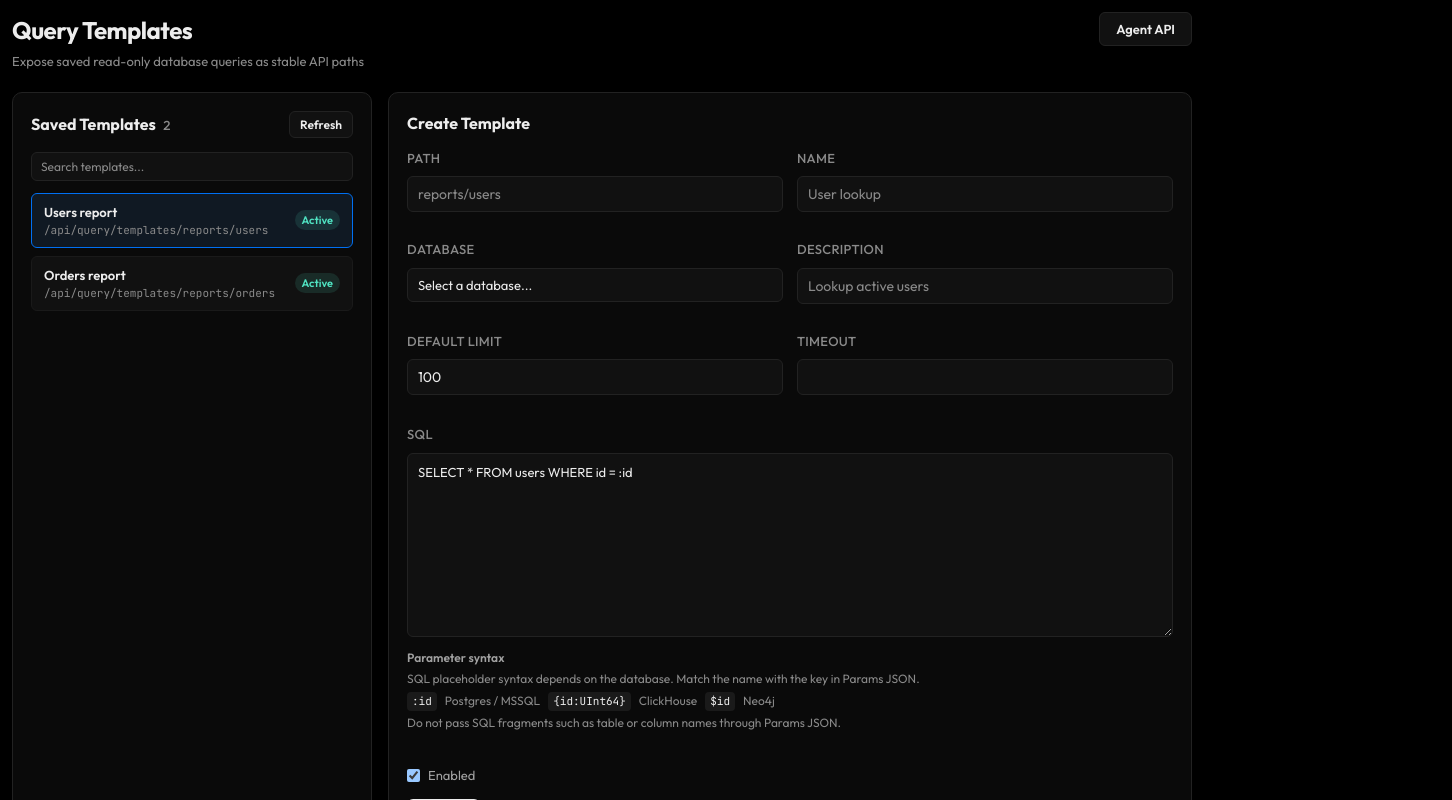
Test: QueryTemplates › counts saved templates in the list header, including search matches
Expected: the heading "Saved Templates 2" is shown, [31,112,171,136]
Type "orders" into the search field labelled "Search templates..." at (192, 166), box [31,152,353,180]
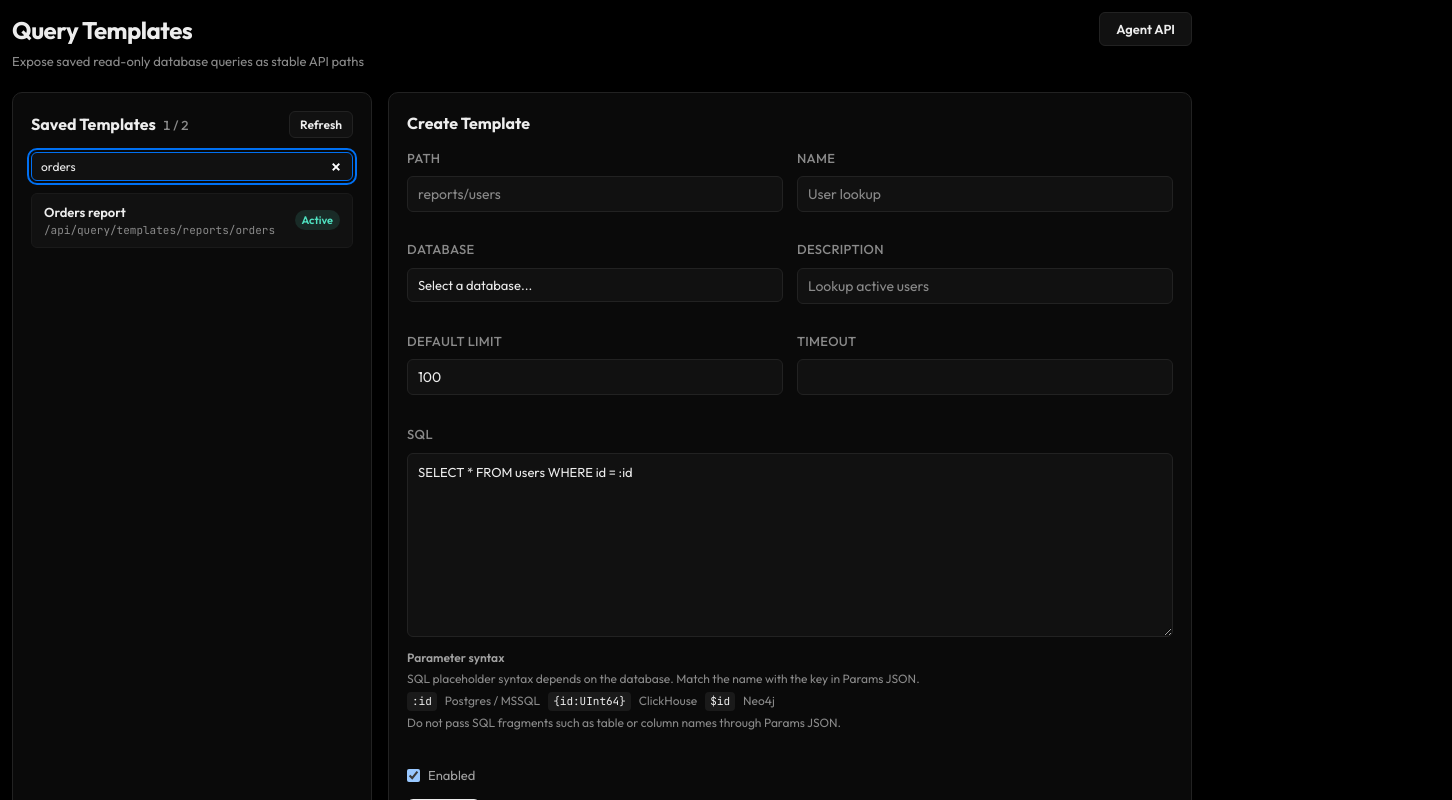
Expected: the heading "Saved Templates 1 / 2" is shown, [31,112,189,136]
